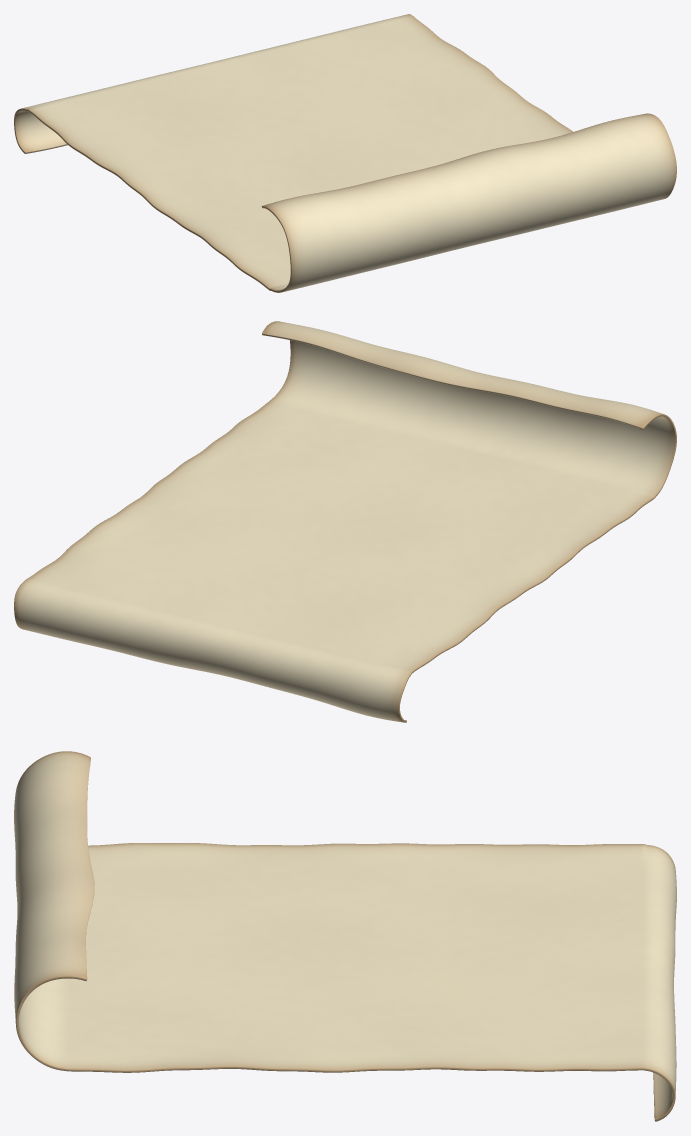
The model's file is scroll_login_animation_v01.glb.
3 renders of one model, top to bottom at view 1: azimuth 30°, elevation 25°; view 2: azimuth 150°, elevation 25°; view 3: azimuth 270°, elevation 25°, orthographic. The views are drawn at different scales.
Parts seen in each view (by area): view 1: Fantasy_Parchment_Scroll; view 2: Fantasy_Parchment_Scroll; view 3: Fantasy_Parchment_Scroll.
Boxes of the visible parts, bbox=[...] form: Fantasy_Parchment_Scroll: bbox=[14, 14, 676, 292]; Fantasy_Parchment_Scroll: bbox=[14, 321, 676, 722]; Fantasy_Parchment_Scroll: bbox=[14, 751, 676, 1121].
Size of the model in its own units: 4.28 by 1.35 by 5.29.
1 material, 1 textured.
